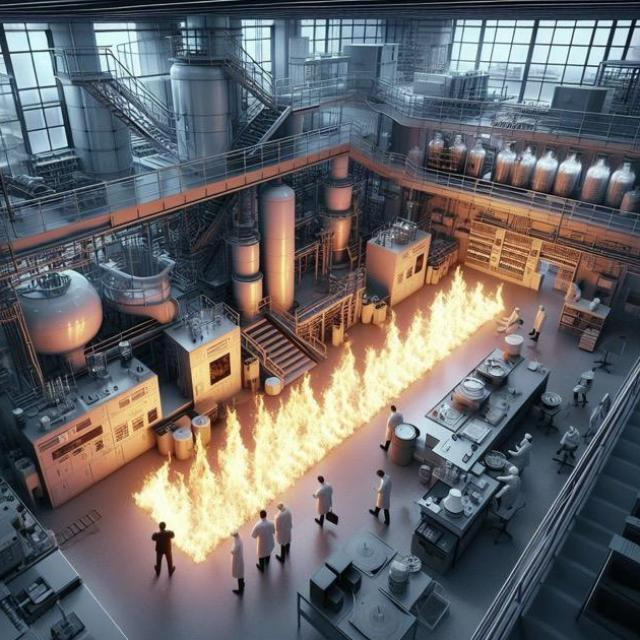smoke: (122, 242, 511, 556)
